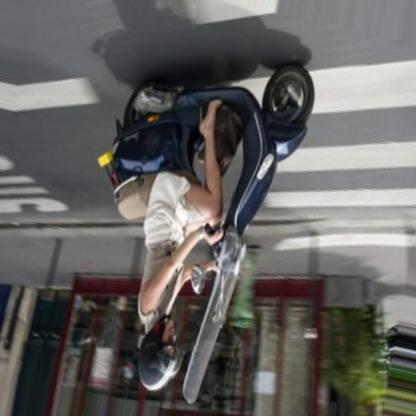with helmet: (137, 318, 180, 394)
